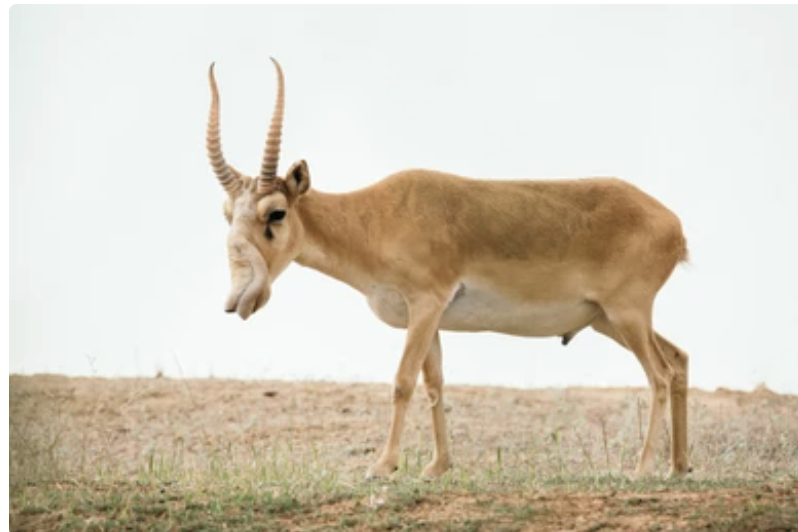saiga: (182, 43, 715, 489)
